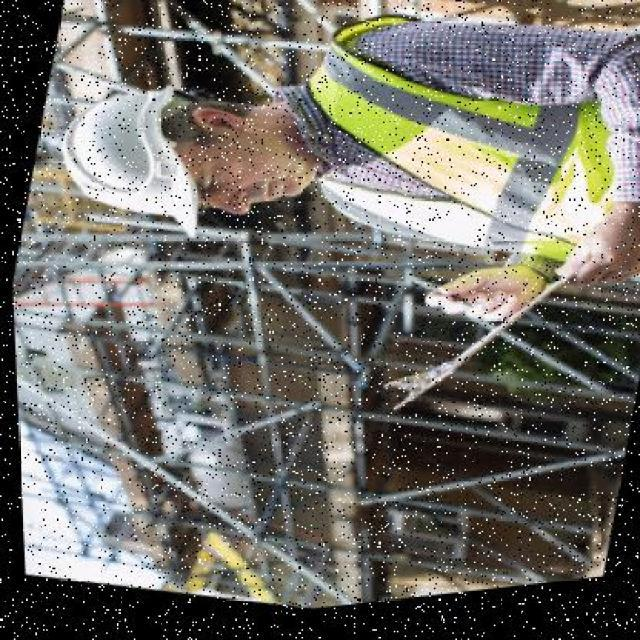helmet: (34, 52, 236, 258)
vest: (268, 0, 639, 311)
